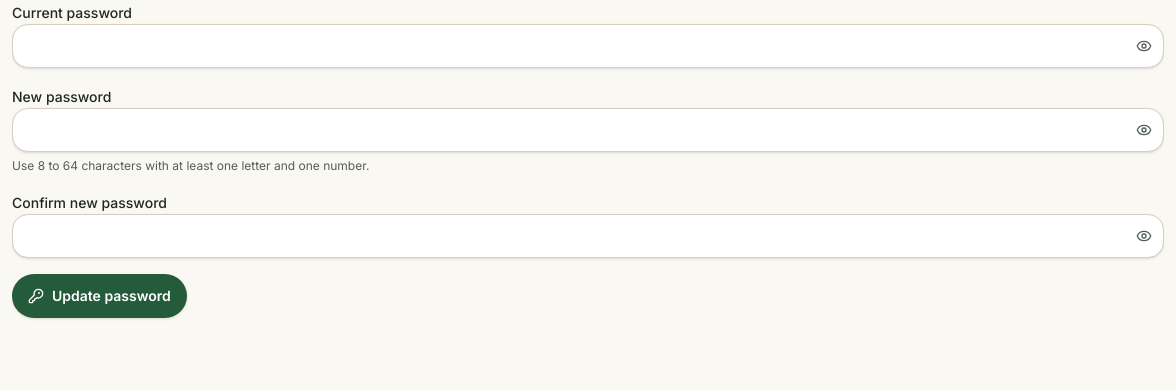
ChangePasswordForm › displays API error message when current password is rejected
The image size is (1176, 390).
Type "WrongPass1" into the password field labelled "Current password".
click(588, 46); type("WrongPass1")  # box [12,24,1164,68]
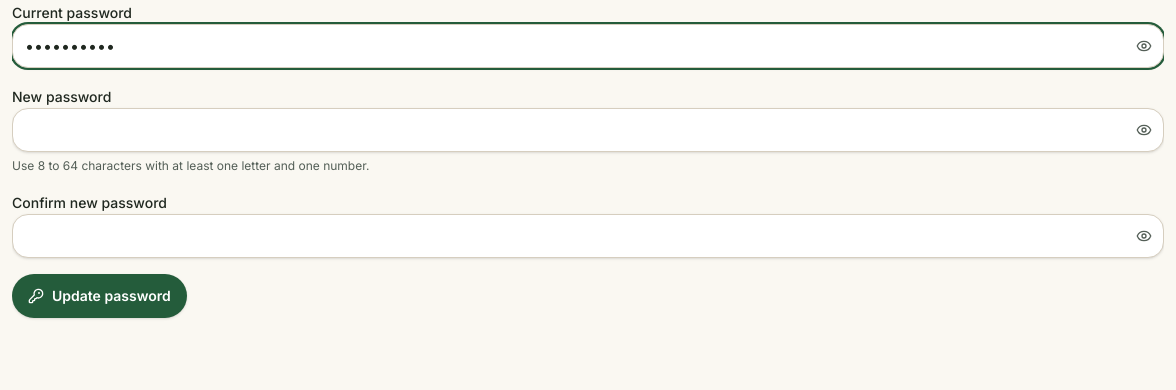
Type "NewPass123" into the password field labelled "New password".
click(588, 130); type("NewPass123")  # box [12,108,1164,152]
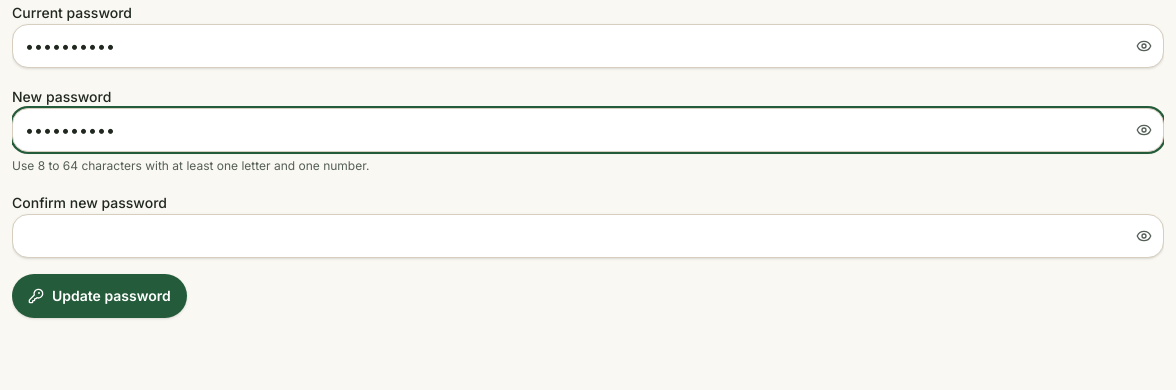
Type "NewPass123" into the password field labelled "Confirm new password".
click(588, 236); type("NewPass123")  # box [12,214,1164,258]
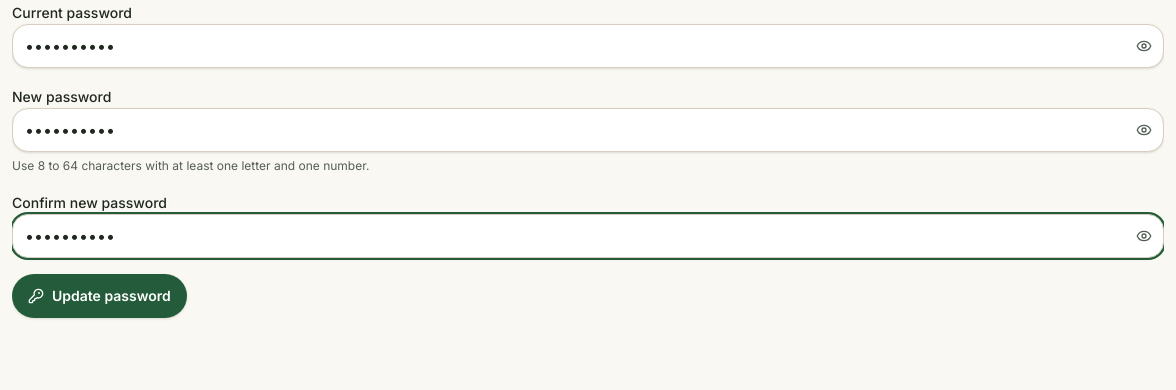
Click the button "Update password".
click(99, 296)  # box [12,274,187,318]
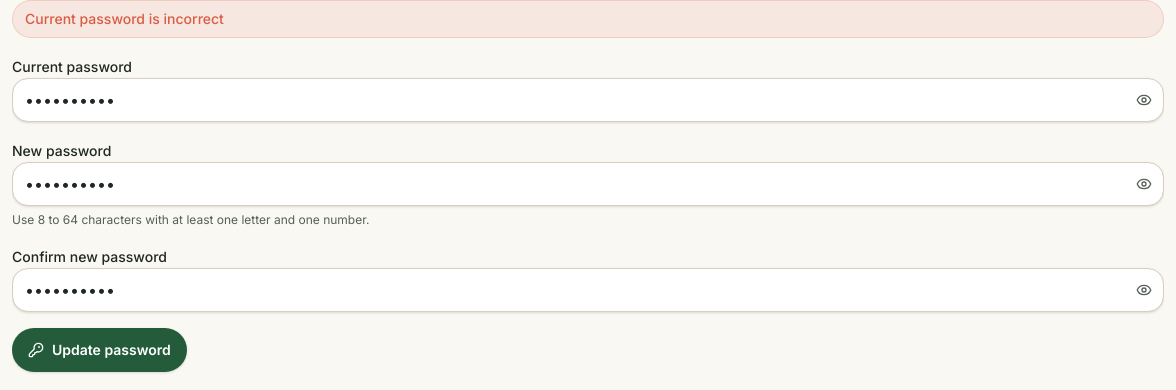
Check: the message reads "Current password is incorrect", box [25,10,224,27]
